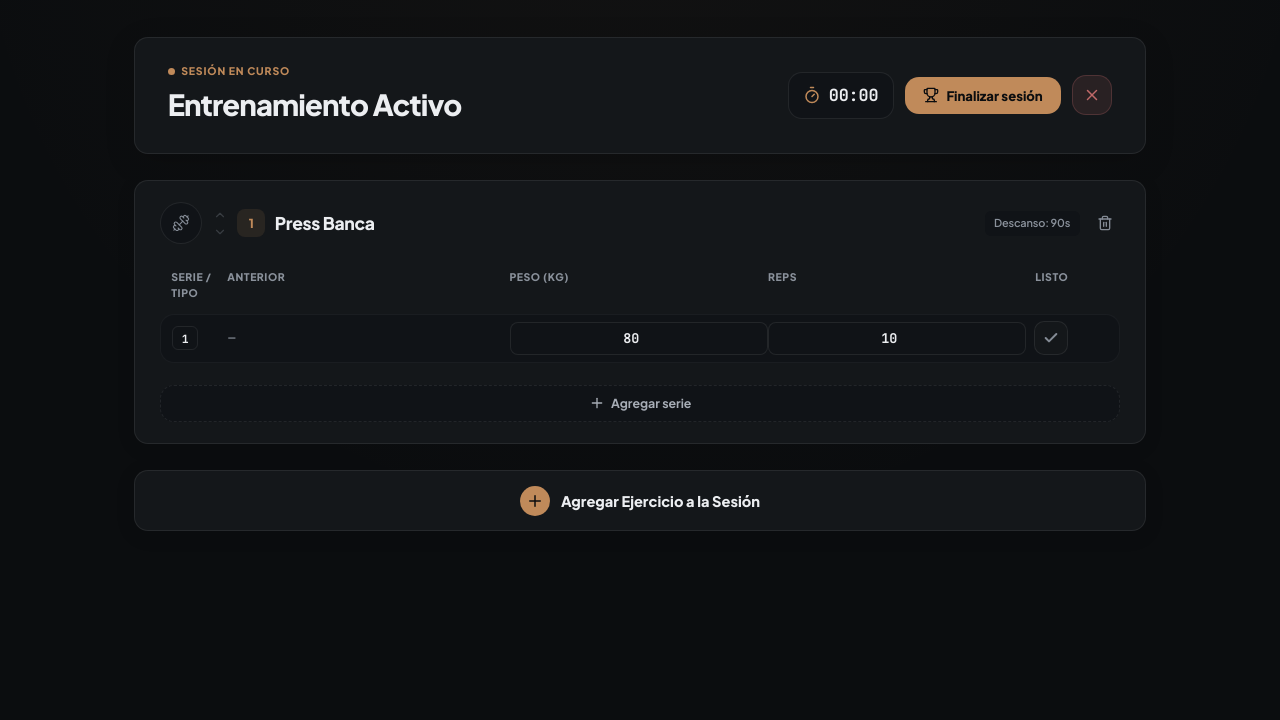
ActiveWorkoutView rest timer › starts a 90s rest countdown when a set is completed
This screenshot has width=1280, height=720.
Click the button named "Marcar serie como completada".
click(1051, 338)  # box [1034, 321, 1068, 355]
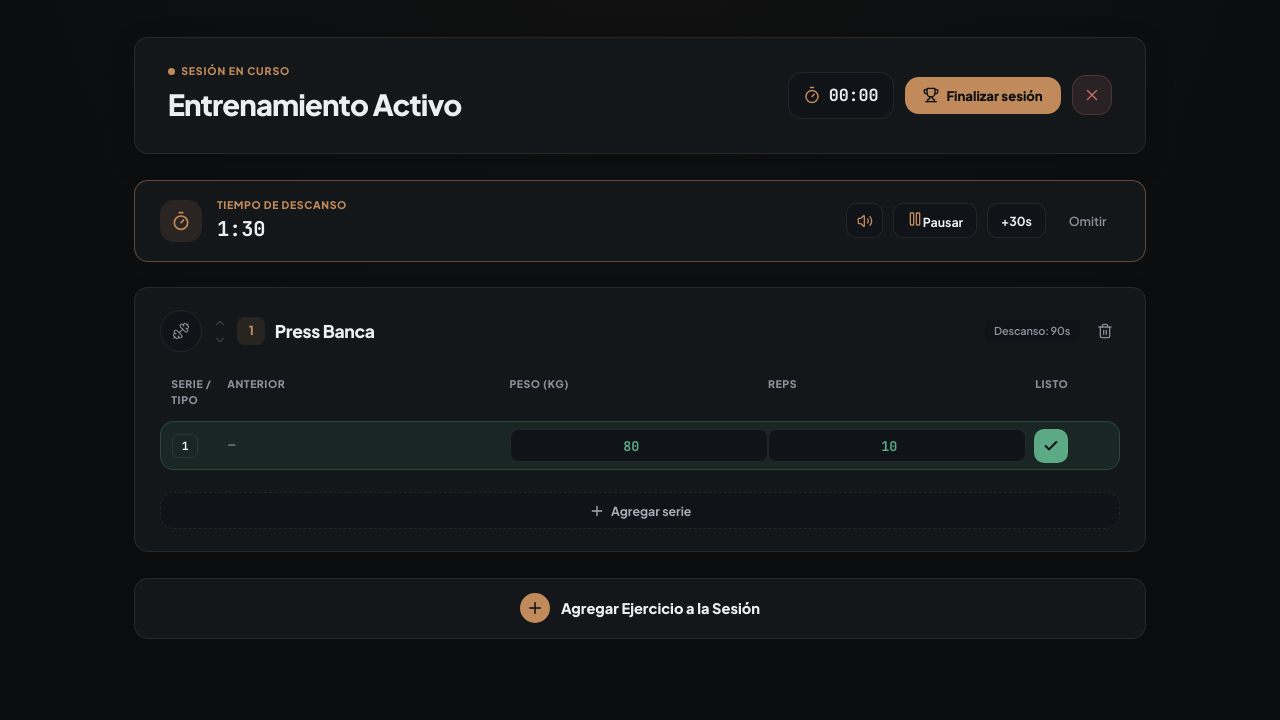
Expected: the text "TIEMPO DE DESCANSO" is shown, [217, 197, 347, 213]
Expected: the text "1:30" is shown, [217, 215, 265, 242]
